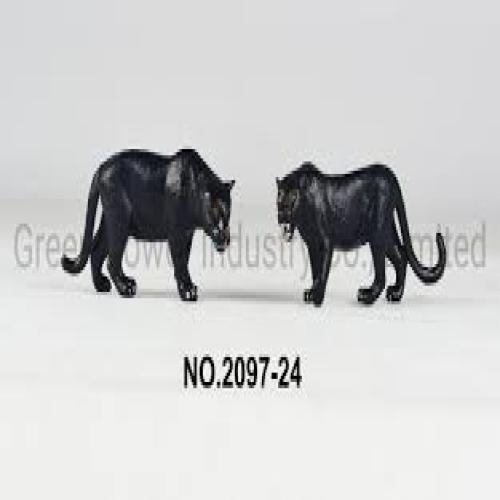panther-endangered: (62, 150, 237, 304), (273, 163, 446, 306)
